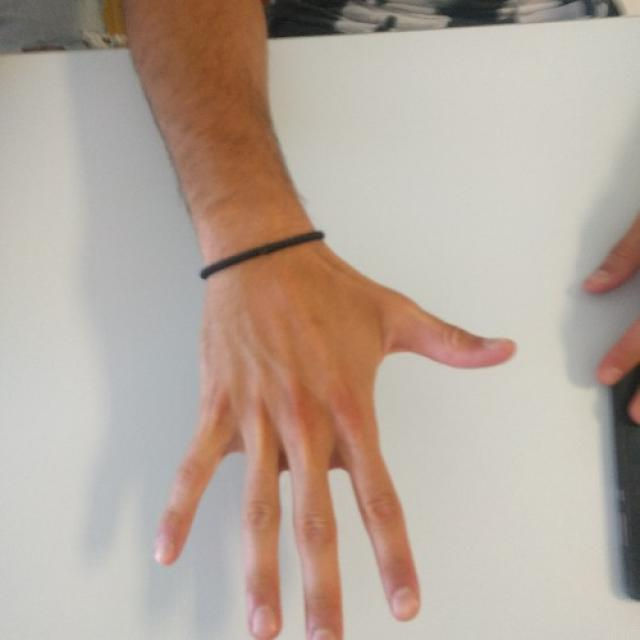paper: (161, 302, 518, 640)
